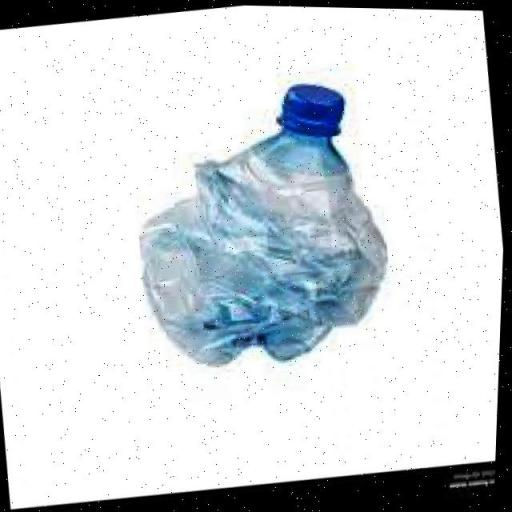plastic: (104, 52, 418, 384)
